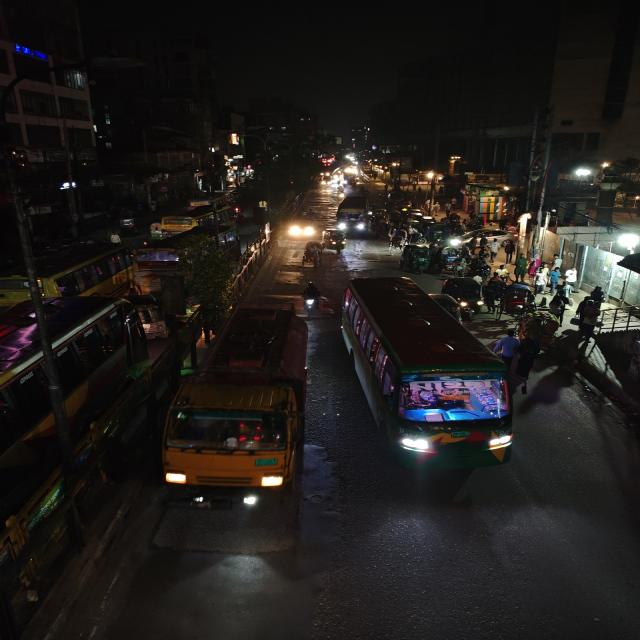bus: (0, 294, 149, 572), (338, 275, 514, 475), (163, 299, 313, 495), (0, 241, 138, 305), (336, 194, 371, 236)
cng: (441, 276, 485, 312), (323, 228, 346, 252)
motorcycle: (300, 279, 324, 315)
pedestrian: (575, 293, 604, 325), (494, 332, 520, 360), (548, 291, 570, 321), (589, 284, 607, 306), (534, 264, 548, 288), (533, 287, 548, 308), (550, 266, 564, 288)
rickshaw: (299, 240, 324, 268)
